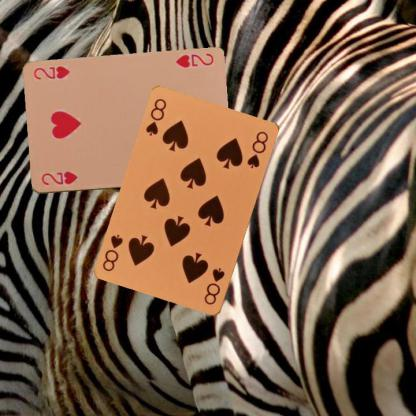2h: (38, 169, 80, 187), (173, 51, 215, 69)
8s: (201, 265, 226, 307), (143, 96, 168, 137)
